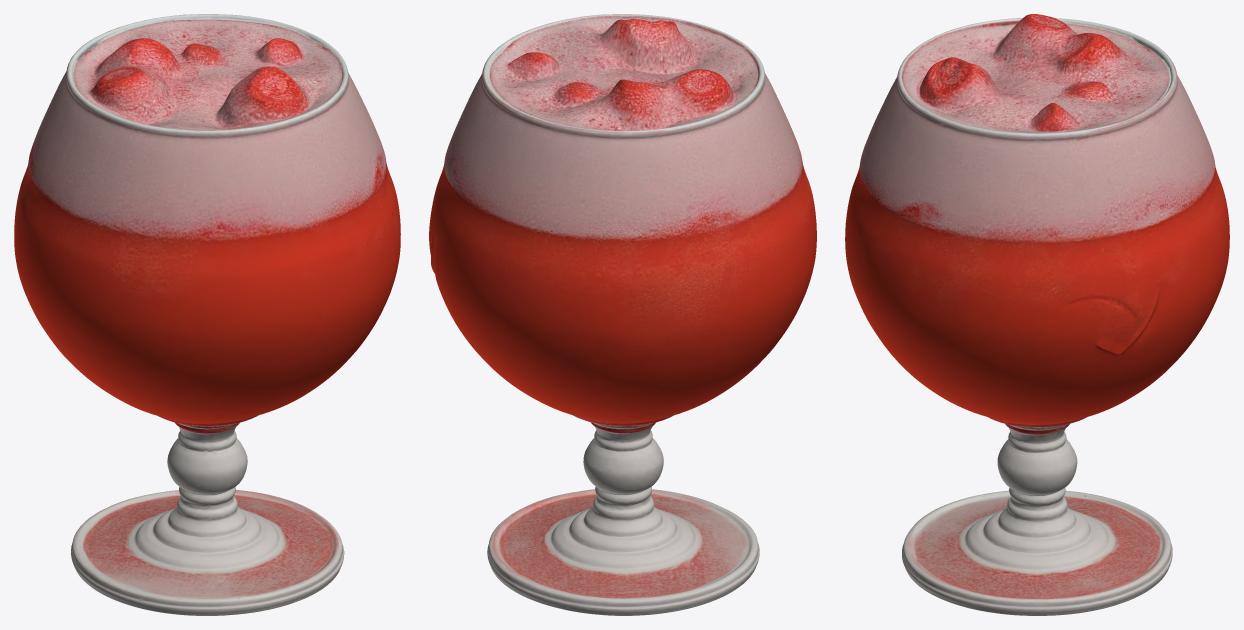
The model's file is modelo-04.glb.
3 views of the same model, side by side, from view 1: azimuth 30°, elevation 25°; view 2: azimuth 150°, elevation 25°; view 3: azimuth 270°, elevation 25° (orthographic).
Visible parts, largest first — view 1: tripo_node_81301ecb-57d6-44e9-aef1-90a70be775be; view 2: tripo_node_81301ecb-57d6-44e9-aef1-90a70be775be; view 3: tripo_node_81301ecb-57d6-44e9-aef1-90a70be775be.
Part boxes in pixels (x1,y1,x2,y2): tripo_node_81301ecb-57d6-44e9-aef1-90a70be775be: [14, 14, 400, 615]; tripo_node_81301ecb-57d6-44e9-aef1-90a70be775be: [429, 14, 816, 615]; tripo_node_81301ecb-57d6-44e9-aef1-90a70be775be: [845, 14, 1229, 615].
Size of the model in its own units: 0.6735 by 0.9818 by 0.6743.
1 material, 1 textured.
